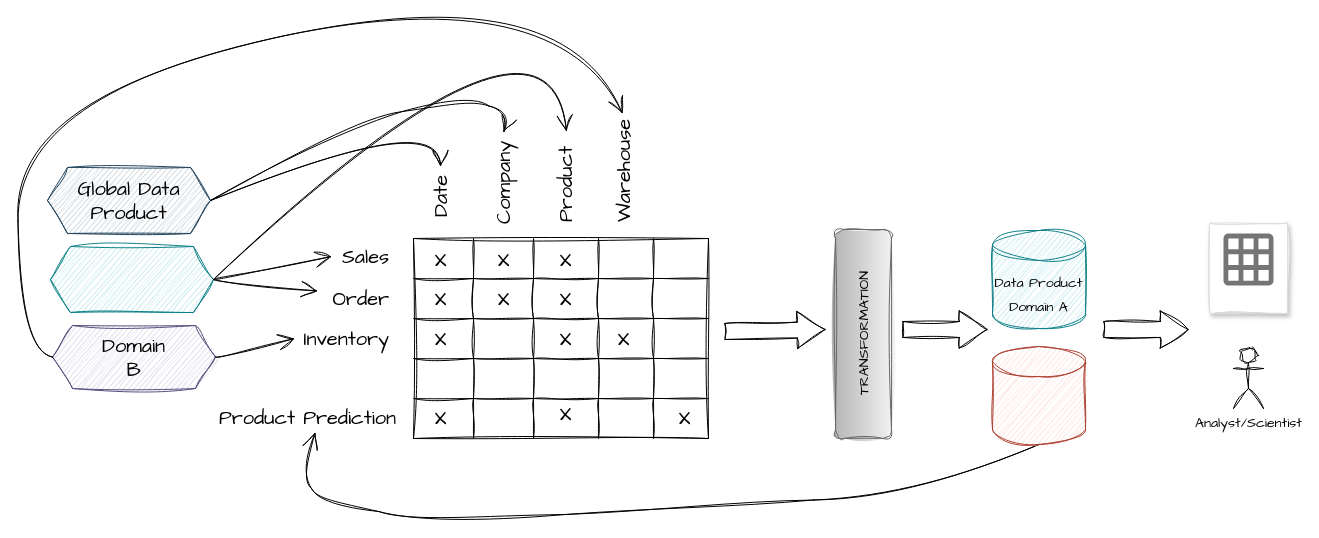
Some shapes in this 1319 by 538 pixel diagram are drawn without their labels. The shapes that lost their labels are listed below. From the top down, each one's centre as x and y in pixels, then its label:
At [132,279]: "Domain A".
At [1249,269]: "Dashboard".
At [1039,395]: "Data Product Domain C".
